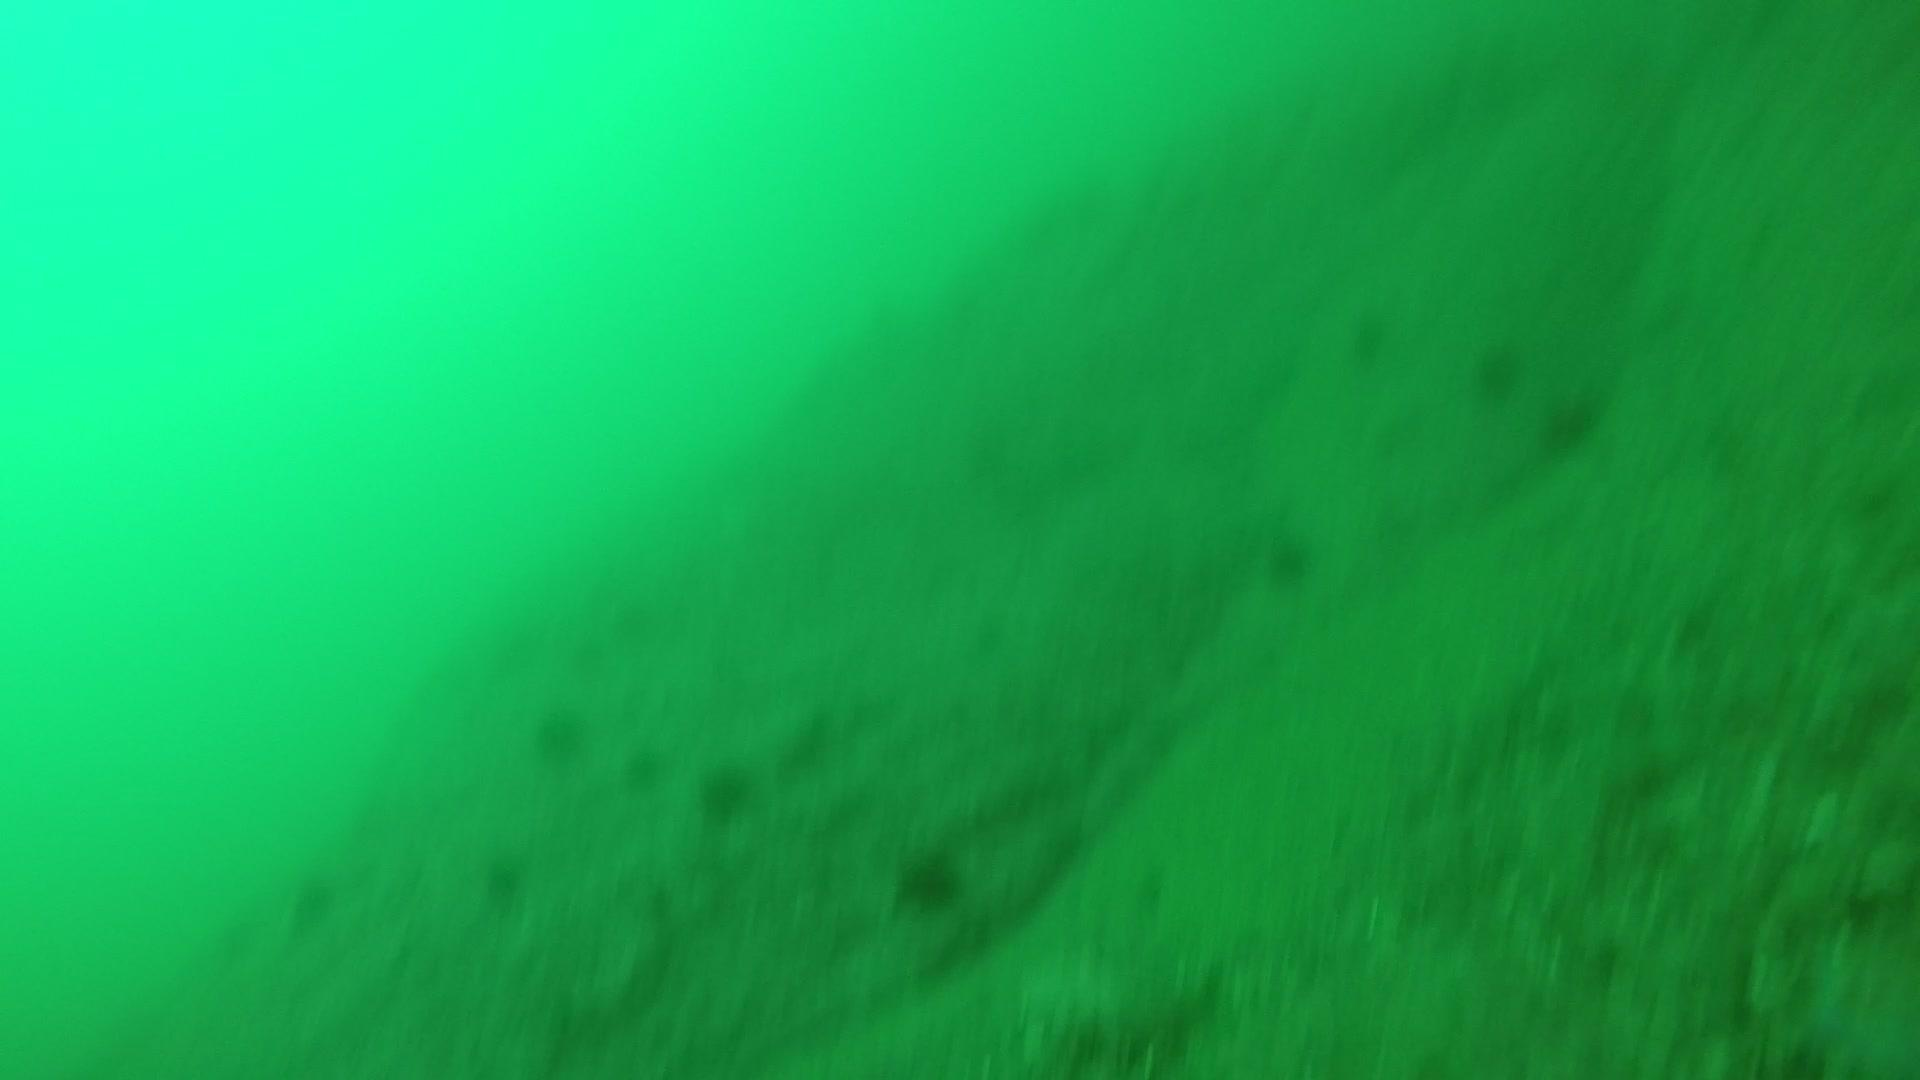echinus: (891, 843, 968, 914), (1535, 385, 1606, 454), (692, 757, 760, 824), (527, 702, 593, 764), (1466, 338, 1528, 402), (284, 865, 344, 930), (1258, 527, 1320, 589), (476, 847, 533, 909), (1342, 303, 1395, 369), (618, 740, 670, 794)
